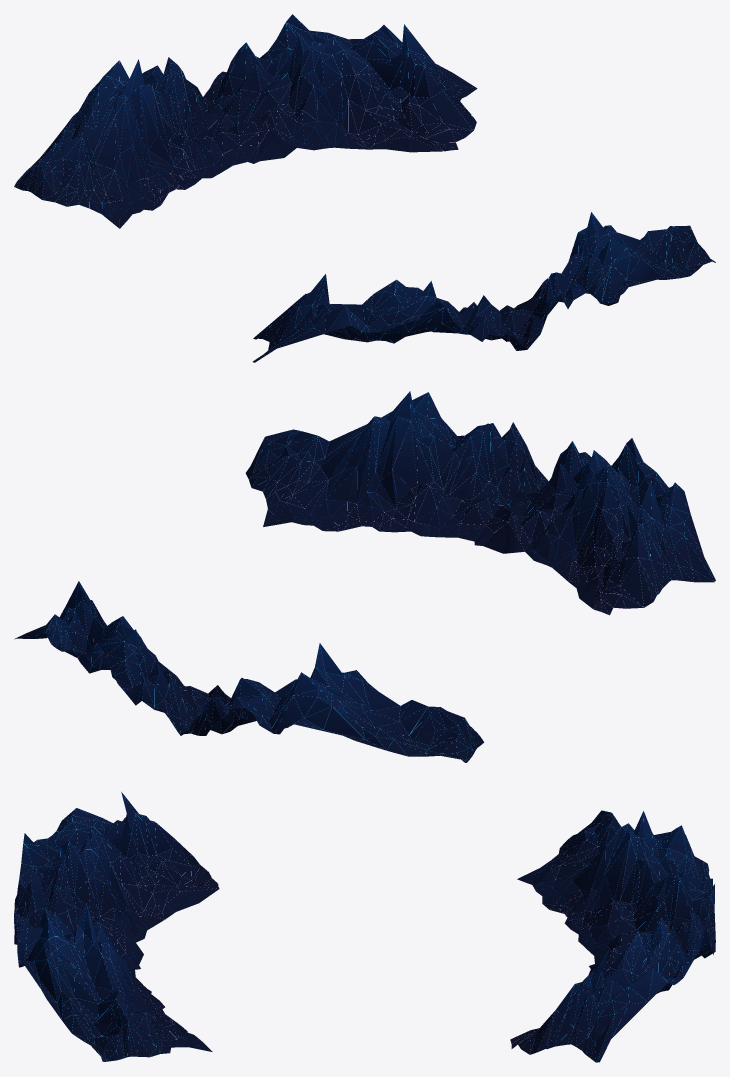
Rendered from Terrain_Desert_Baground_FrontBack.fbx.
3 renders of one model, top to bottom at view 1: azimuth 30°, elevation 25°; view 2: azimuth 150°, elevation 25°; view 3: azimuth 270°, elevation 25°, orthographic. The views are drawn at different scales.
Parts seen in each view (by area): view 1: Terrain_Desert_Baground_FrontBack; view 2: Terrain_Desert_Baground_FrontBack; view 3: Terrain_Desert_Baground_FrontBack.
Part boxes in pixels (box(x1,y1,x2,y2)): Terrain_Desert_Baground_FrontBack: box(14, 14, 715, 362); Terrain_Desert_Baground_FrontBack: box(14, 391, 715, 762); Terrain_Desert_Baground_FrontBack: box(14, 791, 715, 1062).
Bounding box in the file's own units: 166075 × 38596 × 217642.
